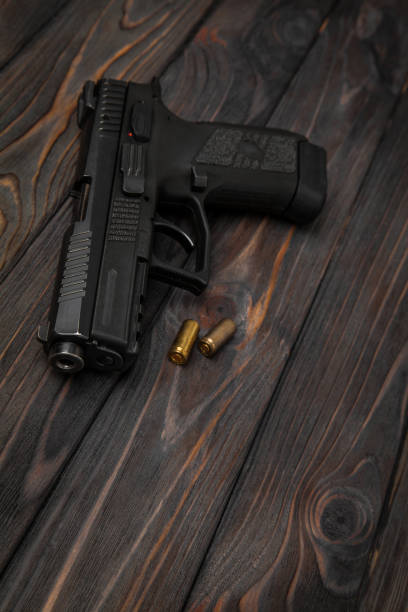gun: (34, 73, 333, 384)
